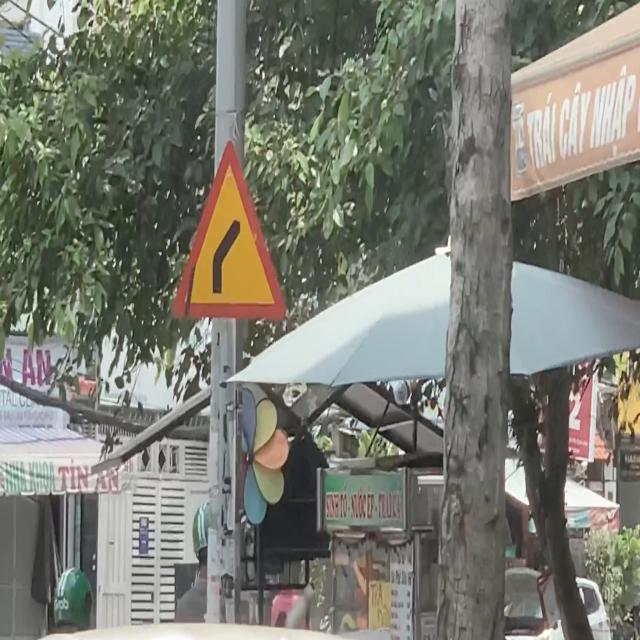Nguy hiem: (165, 131, 293, 336)
